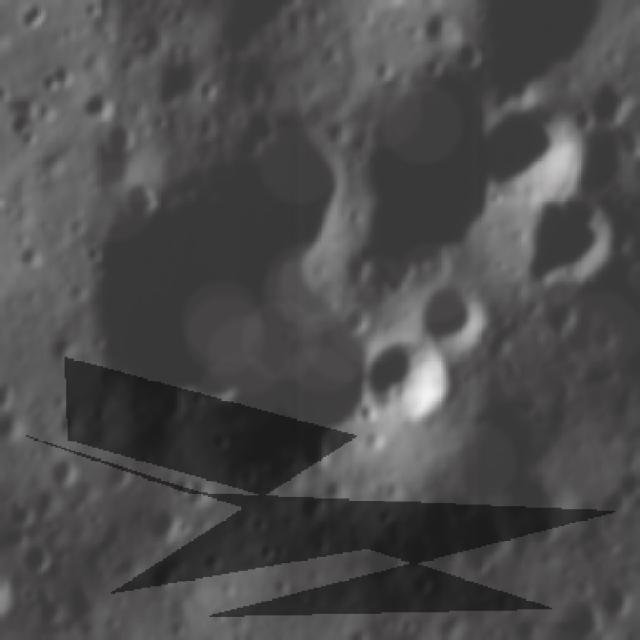crater: (479, 101, 588, 207), (519, 193, 623, 285), (362, 342, 460, 418), (417, 284, 488, 348), (580, 78, 632, 128), (99, 122, 141, 164), (120, 182, 163, 220), (145, 505, 183, 544), (598, 584, 637, 619), (39, 61, 78, 95), (418, 9, 453, 45), (320, 476, 354, 512), (452, 39, 486, 73), (3, 108, 35, 142), (18, 2, 52, 30), (106, 460, 136, 491), (302, 440, 331, 469), (566, 106, 597, 132), (617, 472, 640, 500), (207, 431, 233, 454), (620, 130, 640, 158), (197, 81, 220, 102)
